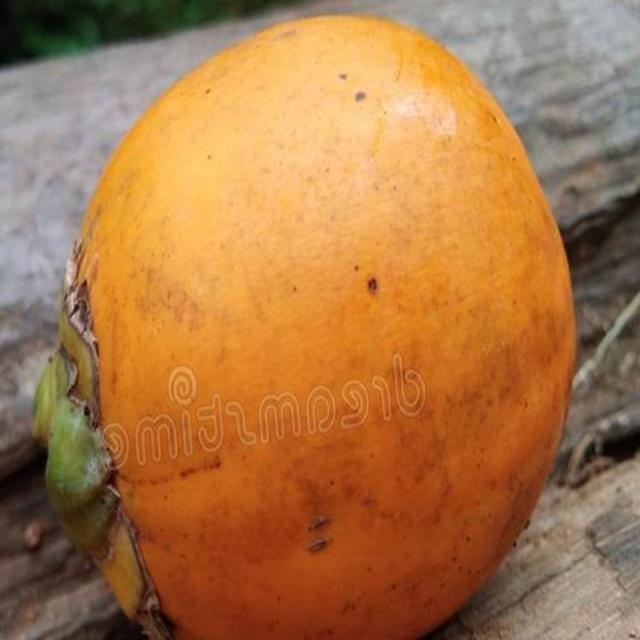good: (31, 14, 578, 639)
